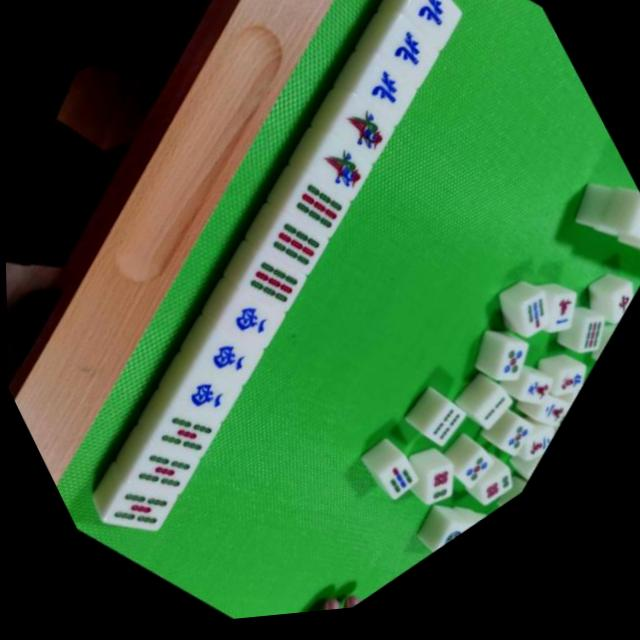hwn: (382, 28, 450, 103), (405, 0, 478, 69), (361, 66, 427, 140)
hww: (168, 356, 251, 449), (193, 321, 274, 410), (216, 286, 295, 374)
sb1: (306, 138, 386, 227), (334, 102, 407, 185)
sb5: (96, 465, 185, 562), (122, 428, 207, 522), (146, 396, 225, 483)
sb9: (259, 209, 341, 302), (237, 247, 317, 336), (283, 174, 362, 263)
